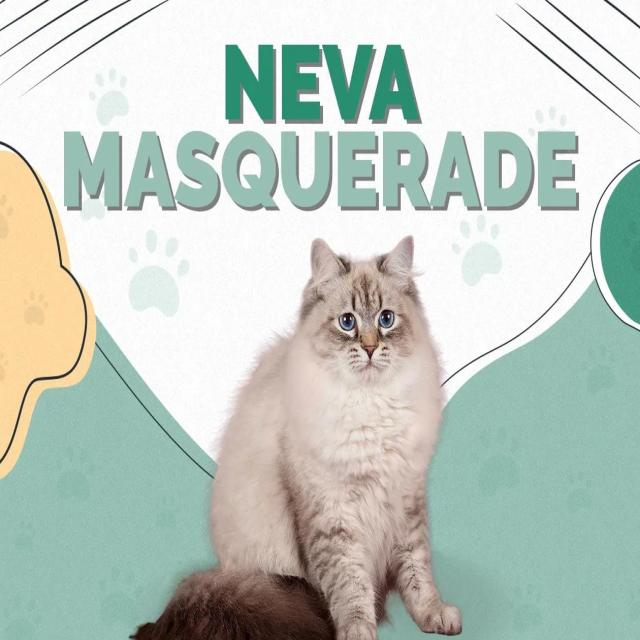Neva Masquerade: (126, 229, 469, 640)
